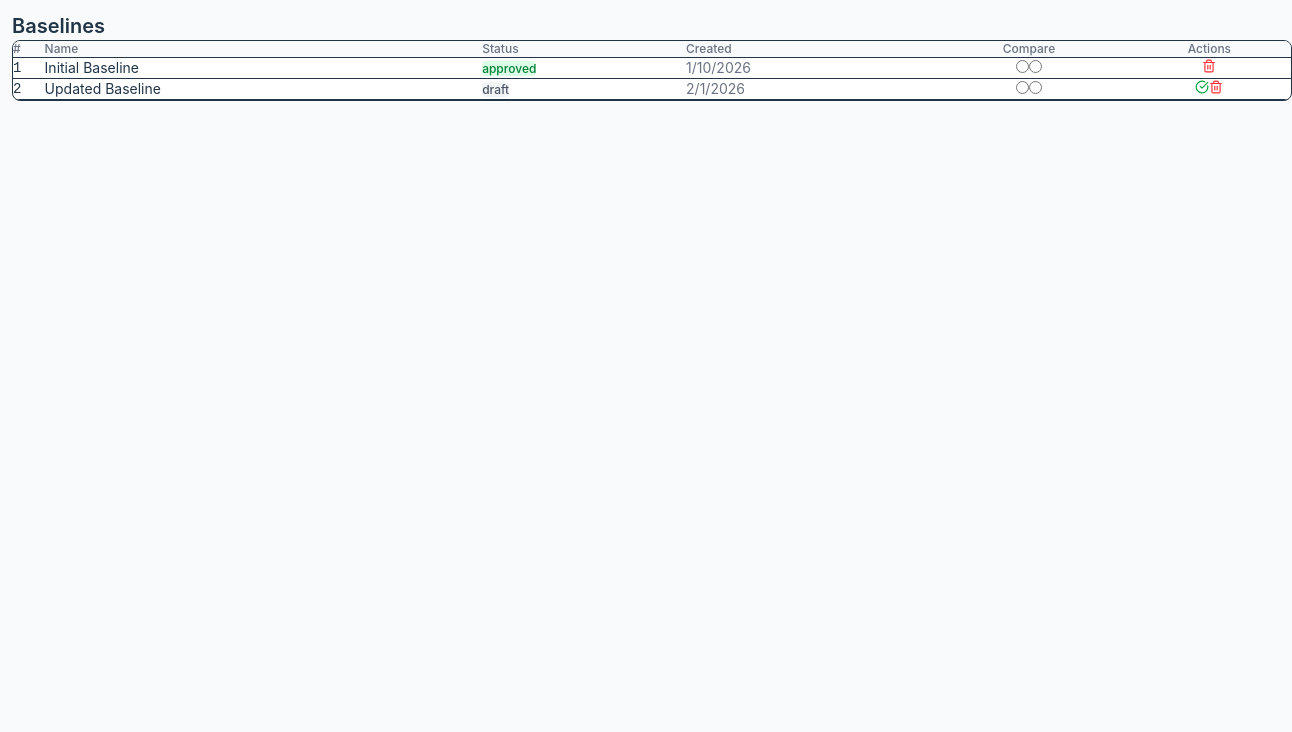
Test: BaselineList › shows success toast after successful approval
What coordinates should you click on to do the following:
click the button titled "Approve"
I would click on:
 (1202, 87)
Its box is [1195, 80, 1209, 94].
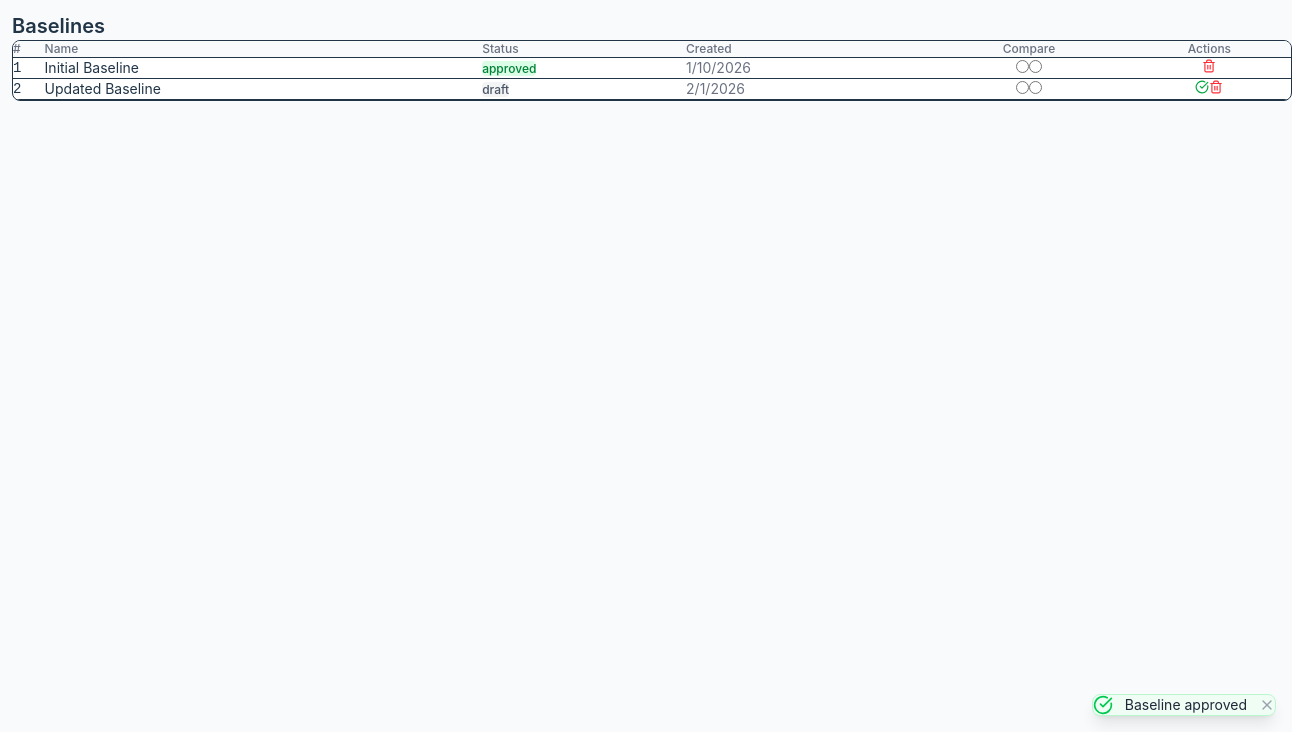
Expected: the text "Baseline approved" is shown, [1125, 695, 1247, 715]
